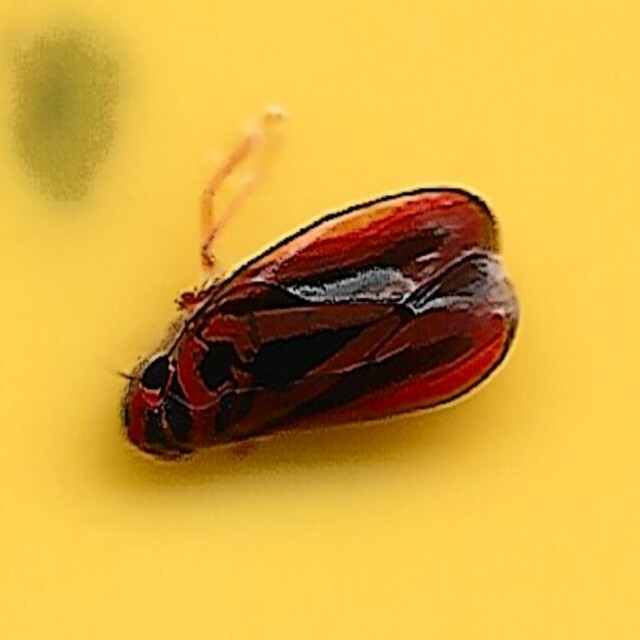Hemiptera: (119, 183, 521, 457)
